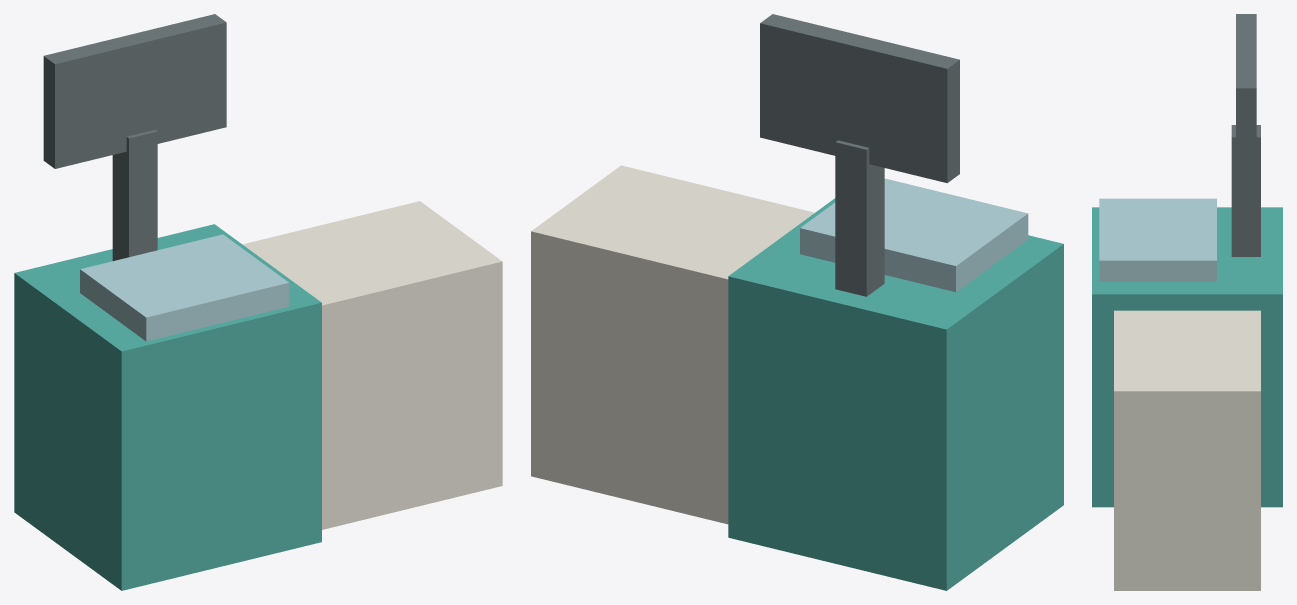
File: supermarket-operations-self-checkout-9bb0dcb2__26766.glb
3 renders of one model, left to right at view 1: azimuth 30°, elevation 25°; view 2: azimuth 150°, elevation 25°; view 3: azimuth 270°, elevation 25°, orthographic. The views are drawn at different scales.
Parts seen in each view (by area): view 1: self-checkout; view 2: self-checkout; view 3: self-checkout.
Boxes of the visible parts, x1,y1,x2,y2 form: self-checkout: (14,14,502,590); self-checkout: (531,14,1063,590); self-checkout: (1092,14,1282,590).
Bounding box in the file's own units: 1.38 × 1.55 × 0.65.
